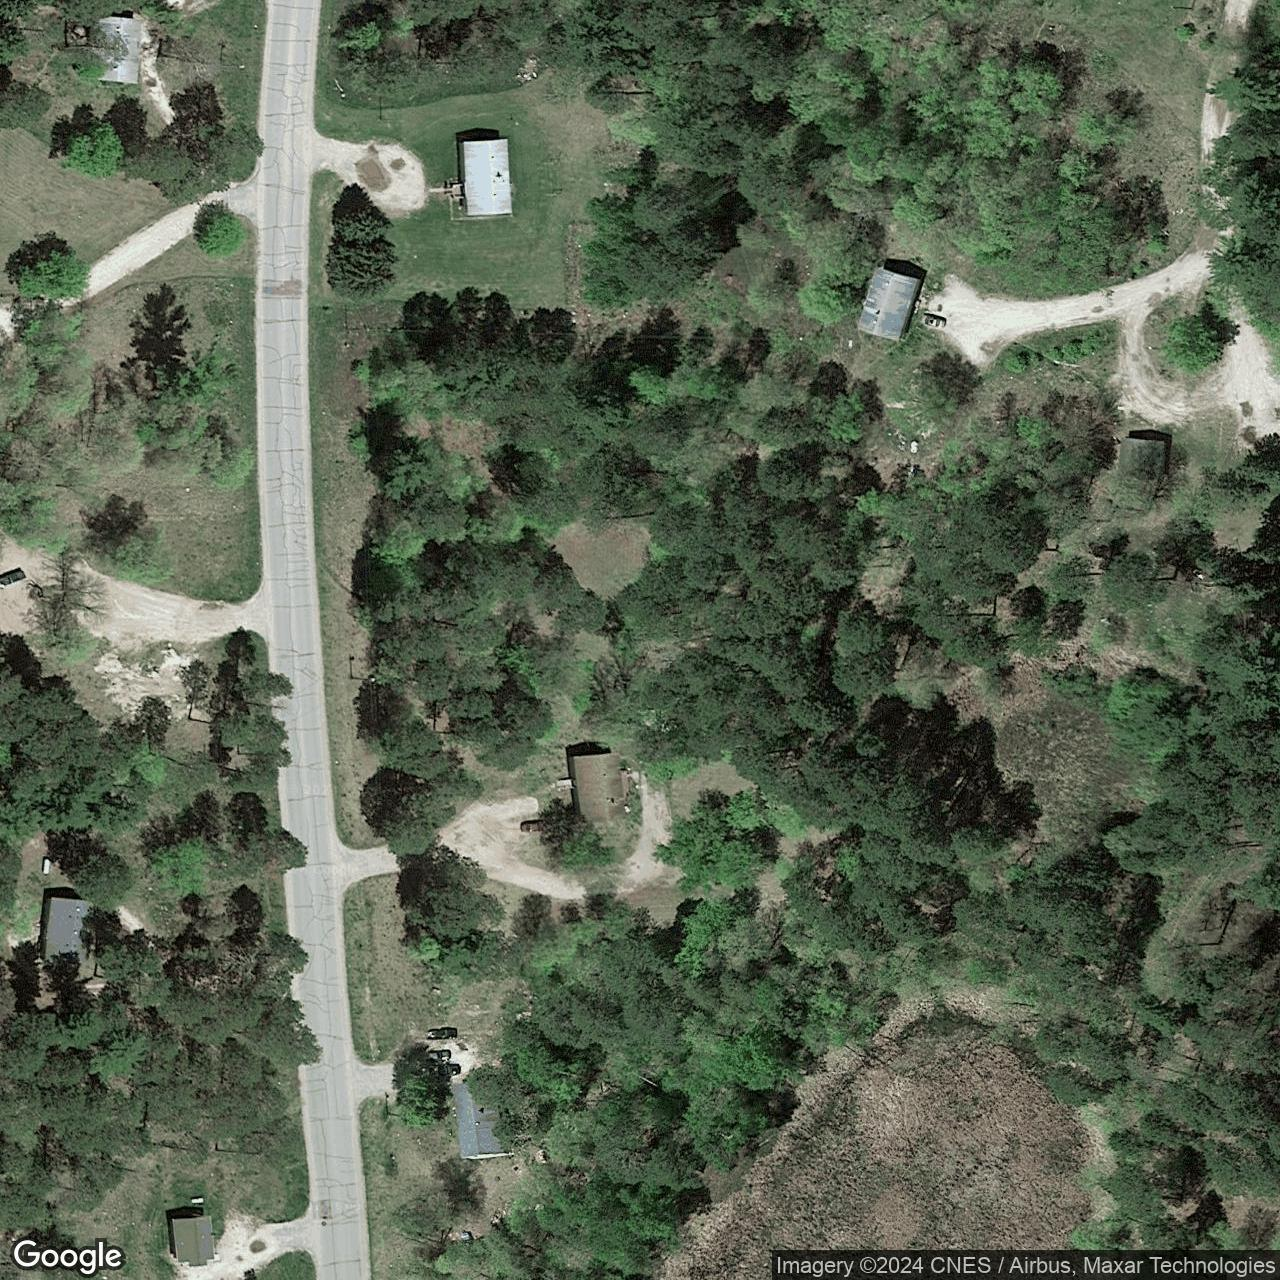Garage: (1114, 436, 1166, 481)
House: (449, 1076, 517, 1160), (855, 264, 926, 343), (457, 136, 515, 217), (566, 750, 626, 828), (38, 896, 96, 967), (91, 14, 145, 86), (170, 1213, 216, 1268)
Propane: (40, 855, 54, 877), (190, 1194, 206, 1206)
